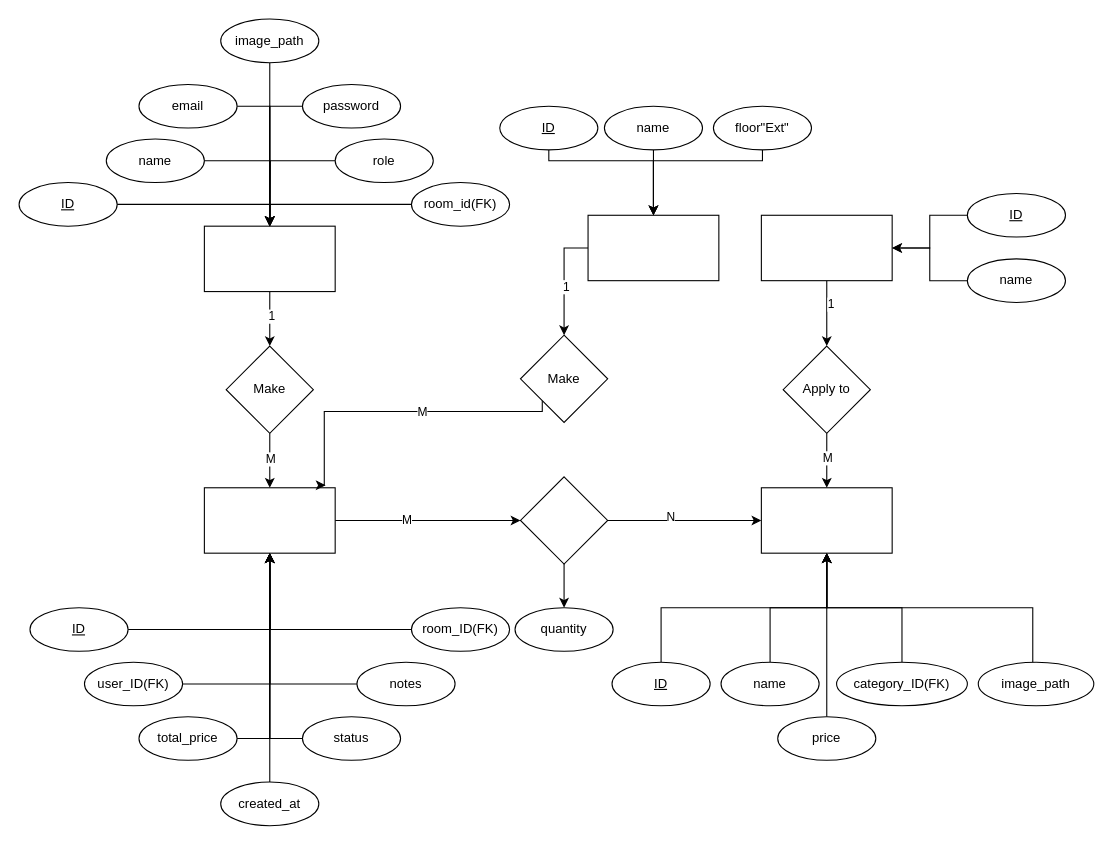
The diagram is 1113 pixels wide and 845 high, and some of its shapes have lost their labels. Each missing label, with the box of its shape:
Category: (760, 214, 892, 281)
Contain: (519, 476, 608, 564)
Order: (203, 487, 335, 553)
Product: (760, 487, 892, 553)
Room: (587, 214, 719, 281)
User: (203, 225, 335, 292)
